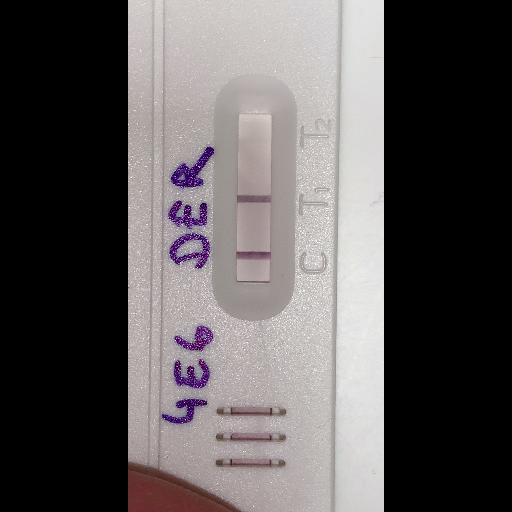Pos: (127, 0, 333, 511)
